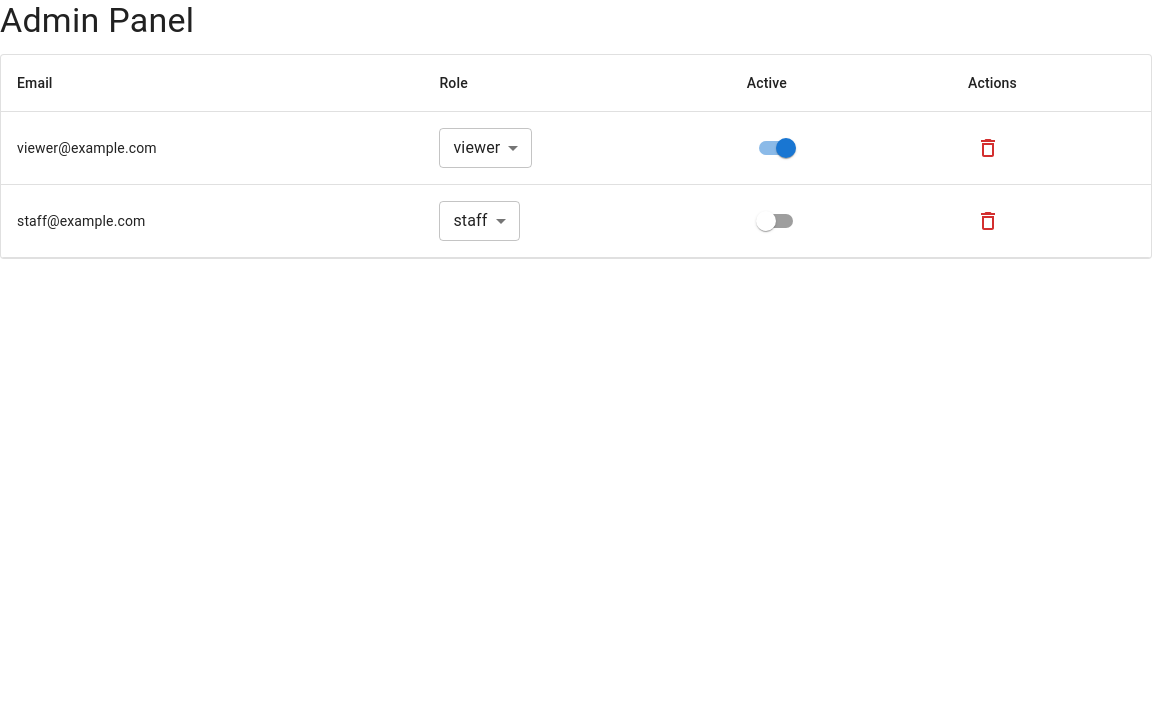
it: AdminPage › shows an error message when deleting a user fails
The image size is (1152, 720).
Click the button named "Delete staff@example.com".
click(988, 221)  # box [968,201,1008,241]
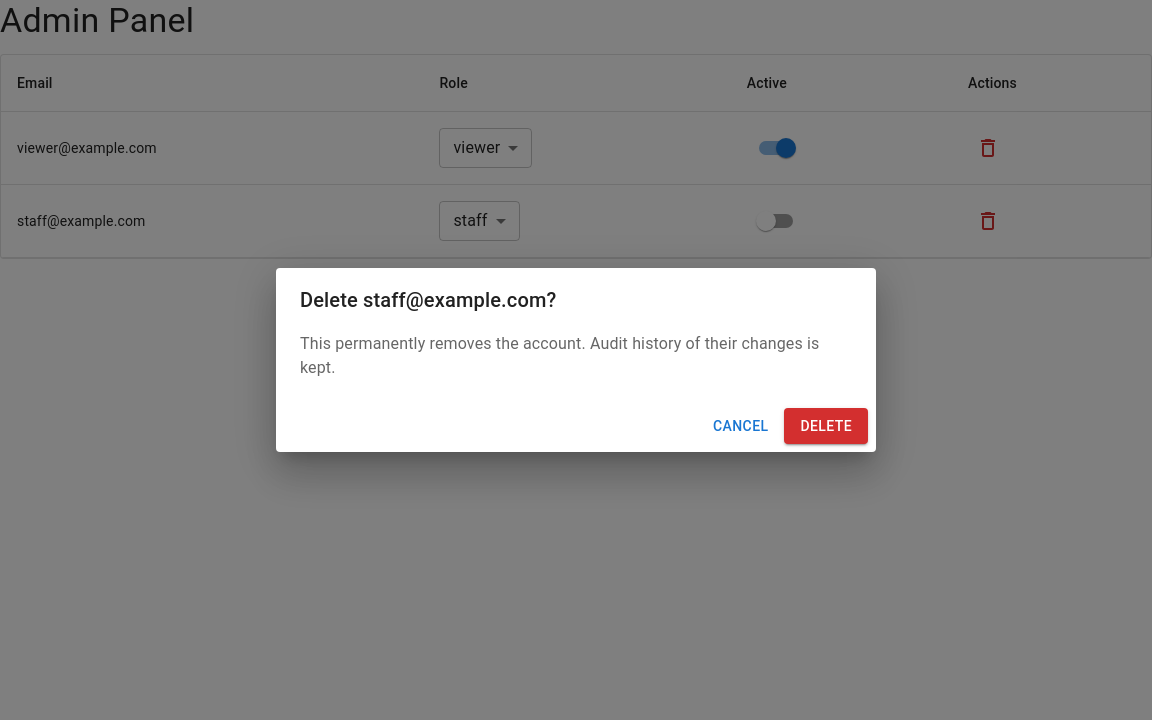
Click the button "Delete".
click(826, 426)  # box [784,408,868,444]
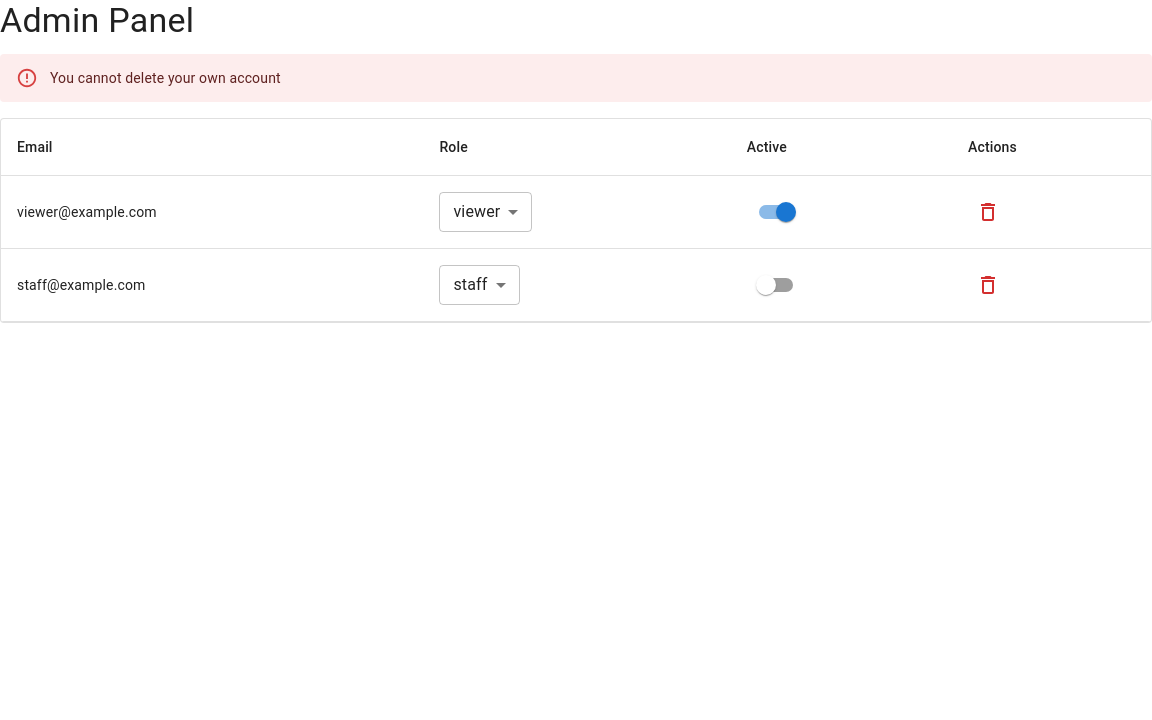
Expected: the text "staff@example.com" is shown, [1,248,423,321]
Now the text "You cannot delete your own account" is shown, box [50,70,281,86]
